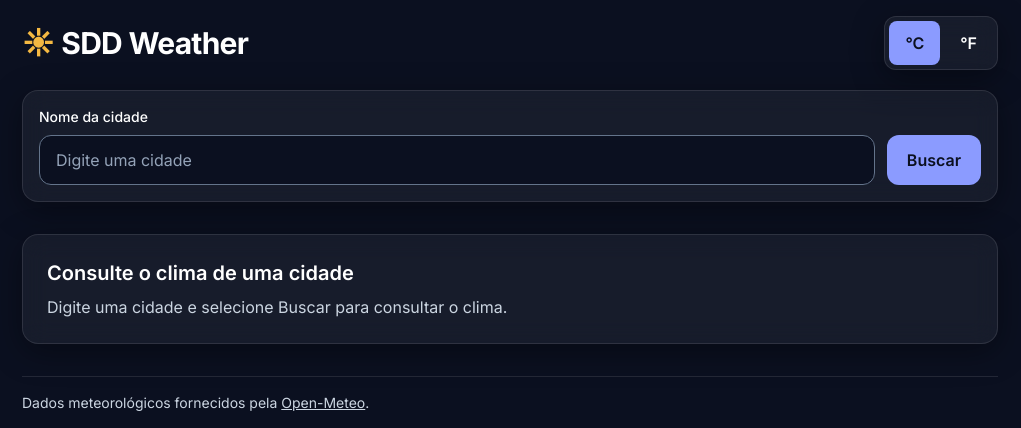
Test: App › renders empty distinctly from error and announces the result
Type "Lisboa" into the search field labelled "Nome da cidade" at (457, 160), box [39,135,875,185]
Then press Enter
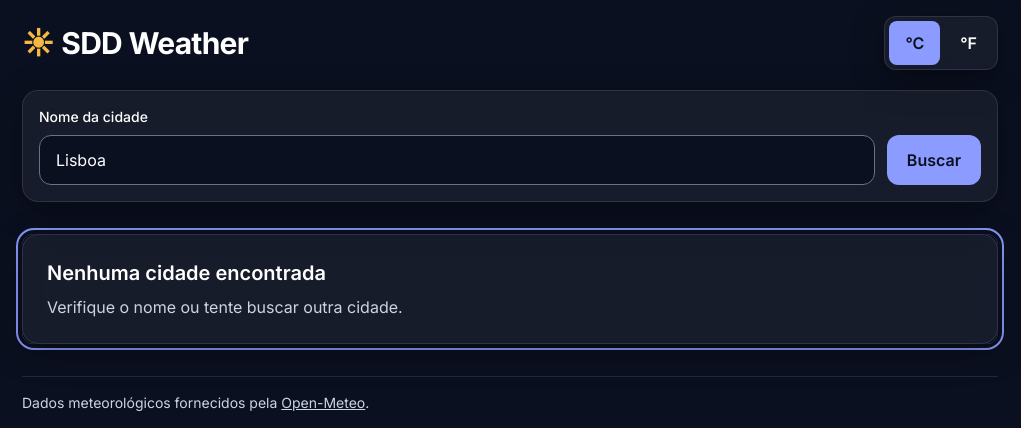
Expected: the heading "Nenhuma cidade encontrada" is shown, [47,261,326,285]
